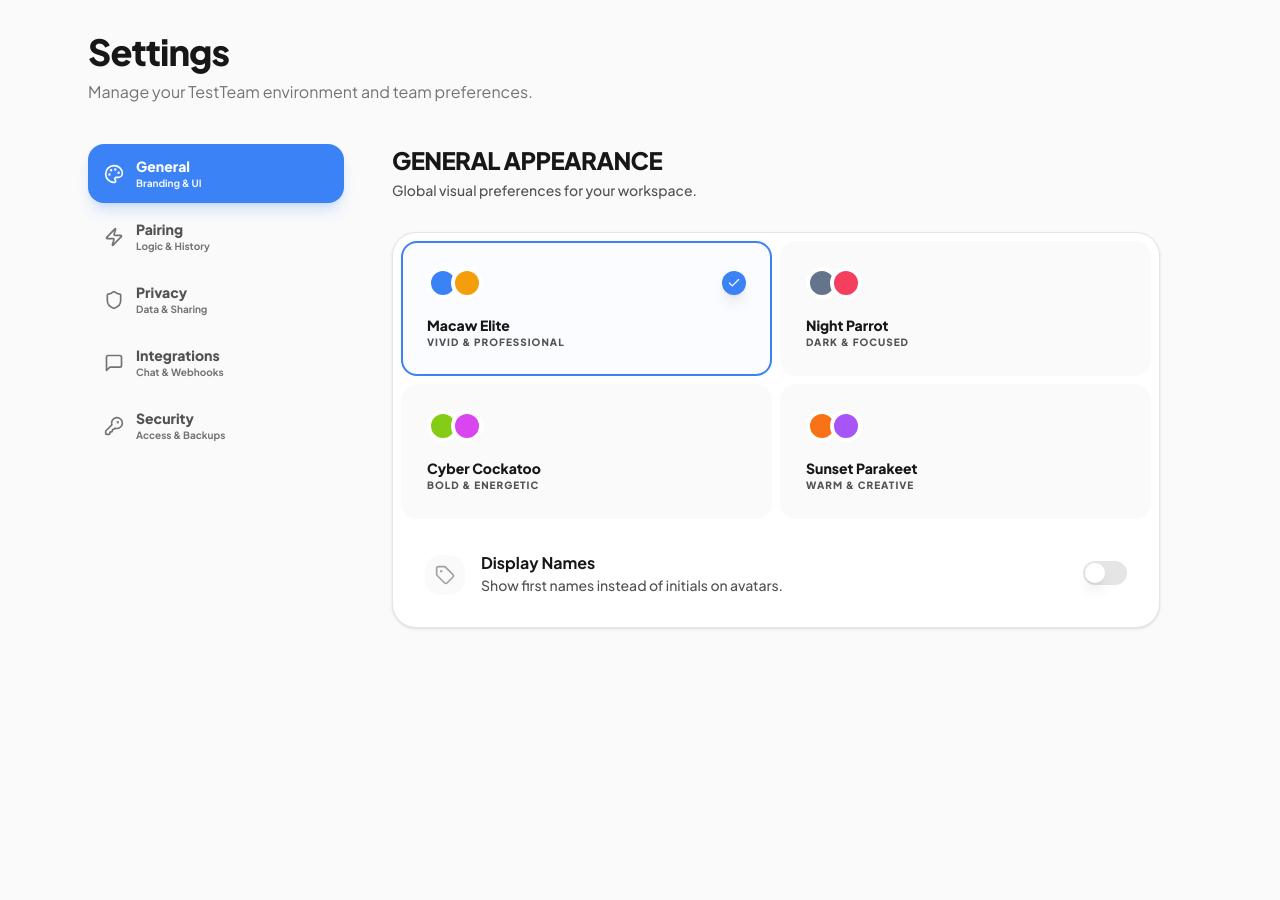
Test: SettingsScreen Component › handles password updates
// Switch to security tab
Click the text "Security" at (165, 418), box [136, 409, 194, 427]
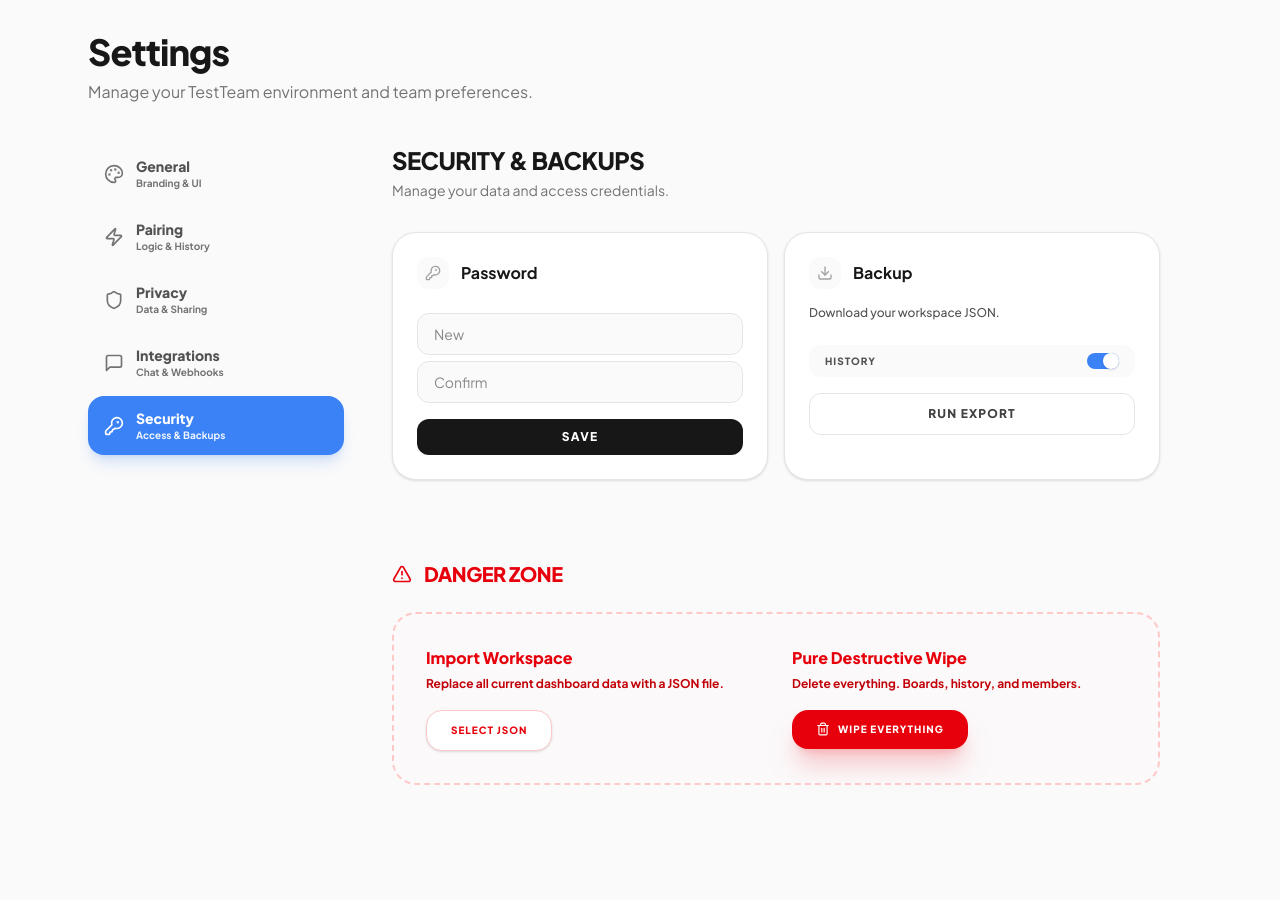
Type "secret123" into the password field with placeholder "New" at (580, 334), box [417, 313, 743, 355]
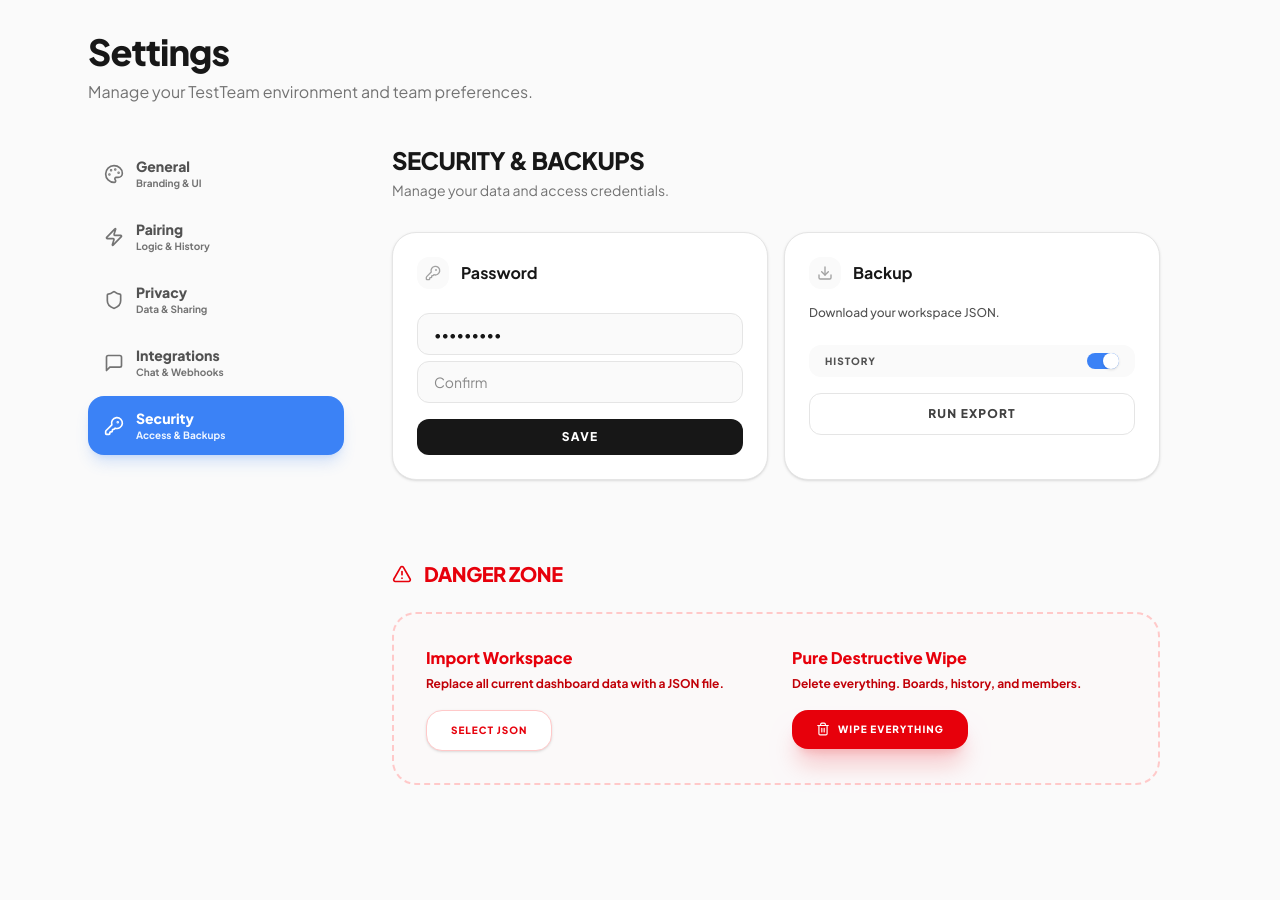
Type "secret123" into the password field with placeholder "Confirm" at (580, 382), box [417, 361, 743, 403]
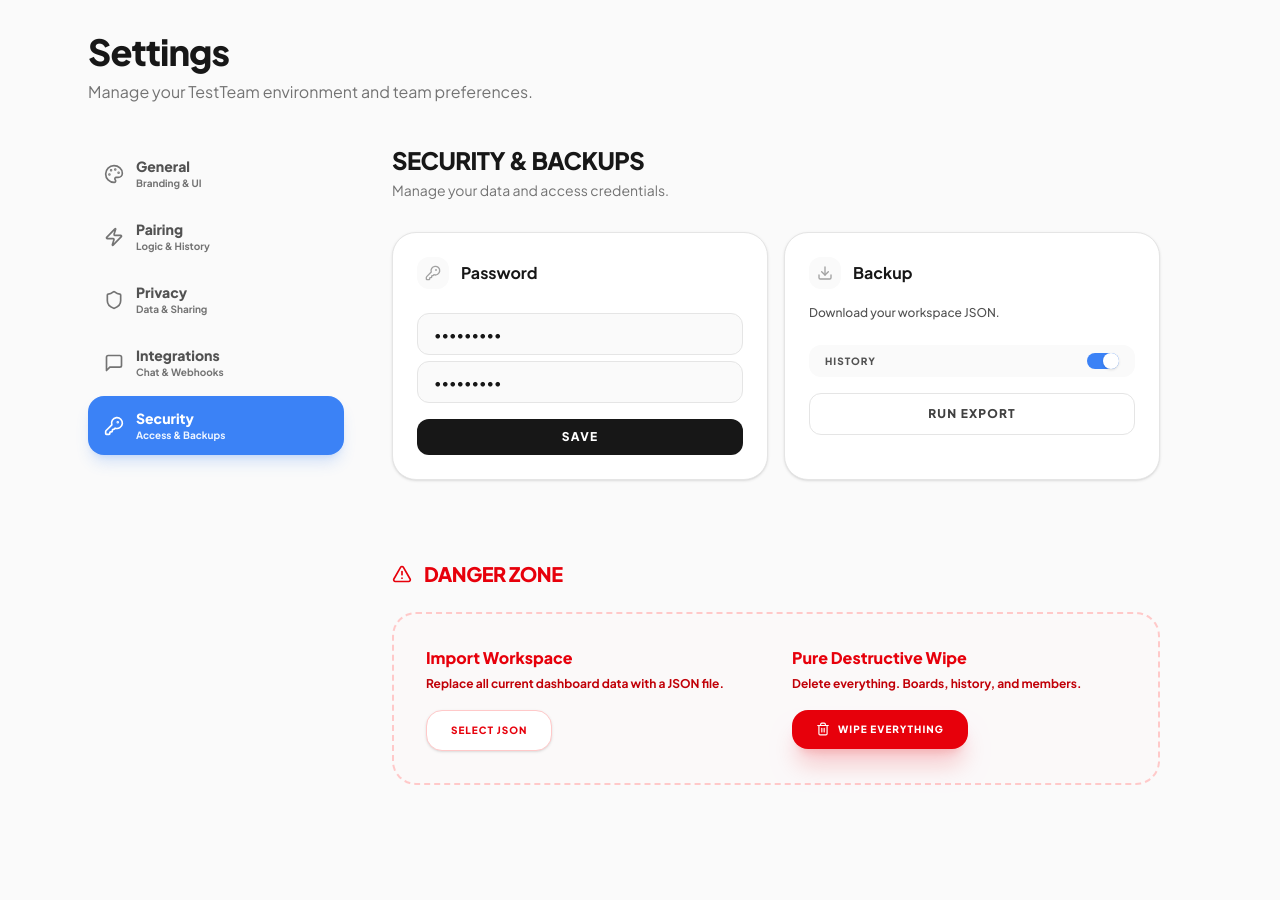
Click the button "Save" at (580, 437), box [417, 419, 743, 455]
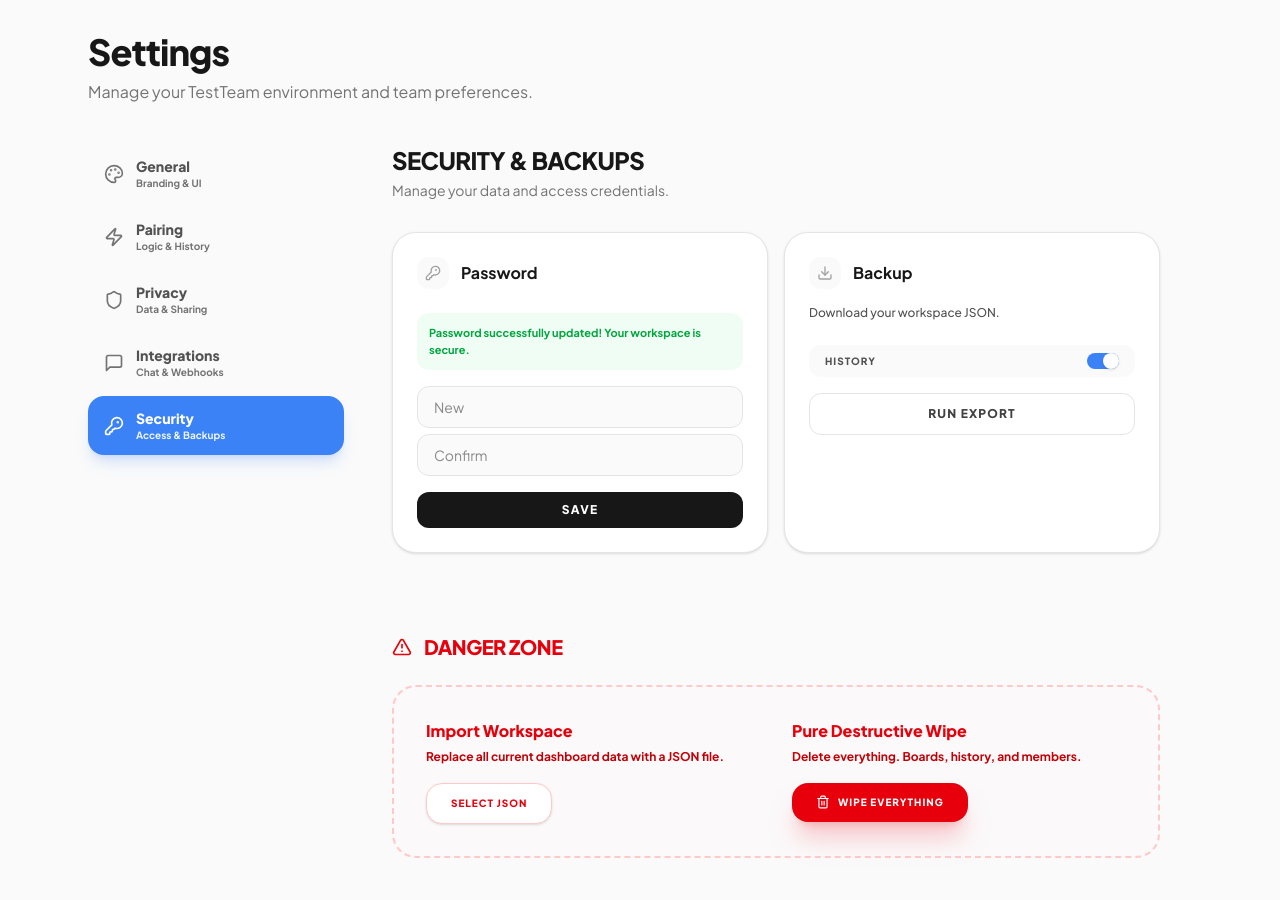
Result: the text "Password successfully updated! Your workspace is secure." is shown at [417, 313, 743, 370]
